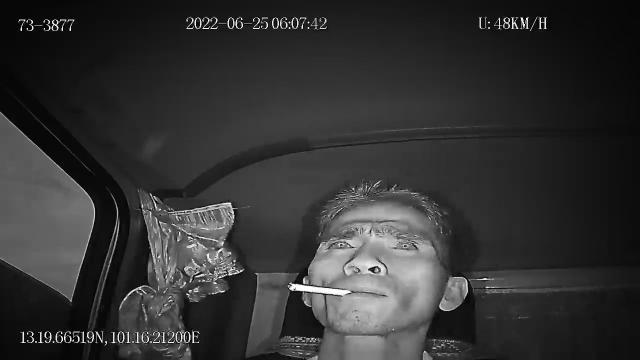SafeDriving: (382, 233, 424, 255), (321, 234, 359, 254)
Smoking: (285, 278, 355, 300)
